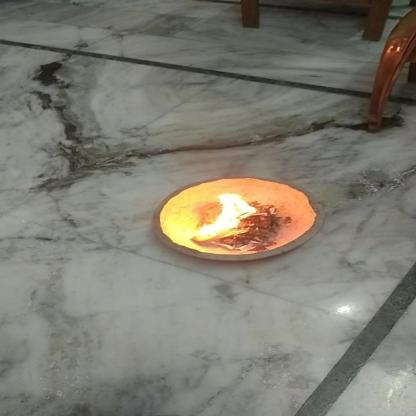fire: (195, 189, 262, 241)
